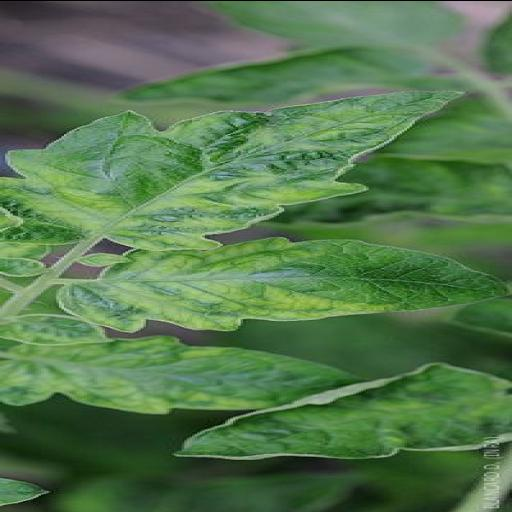Mosaic Virus: (0, 90, 468, 252), (46, 236, 512, 332), (173, 363, 512, 460), (0, 334, 364, 414)
